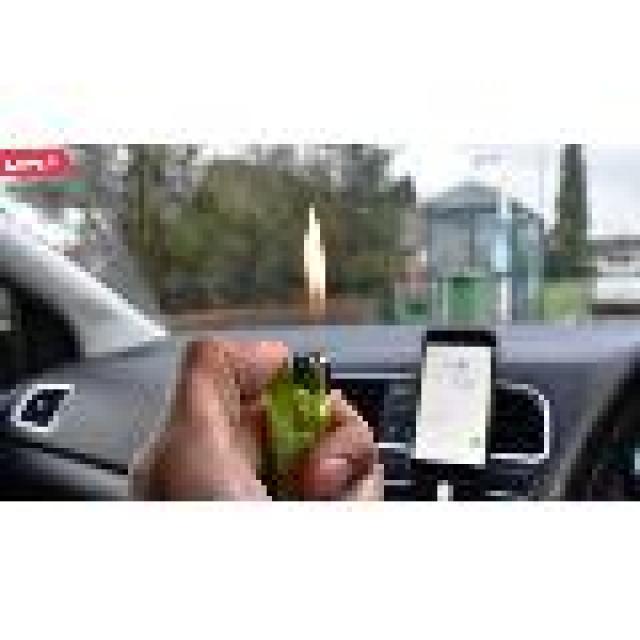fire: (289, 198, 342, 342)
